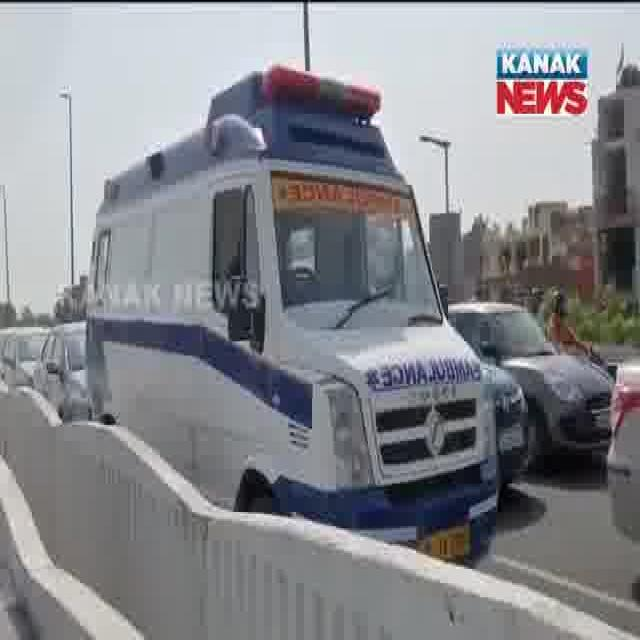ambulance: (77, 70, 494, 568)
